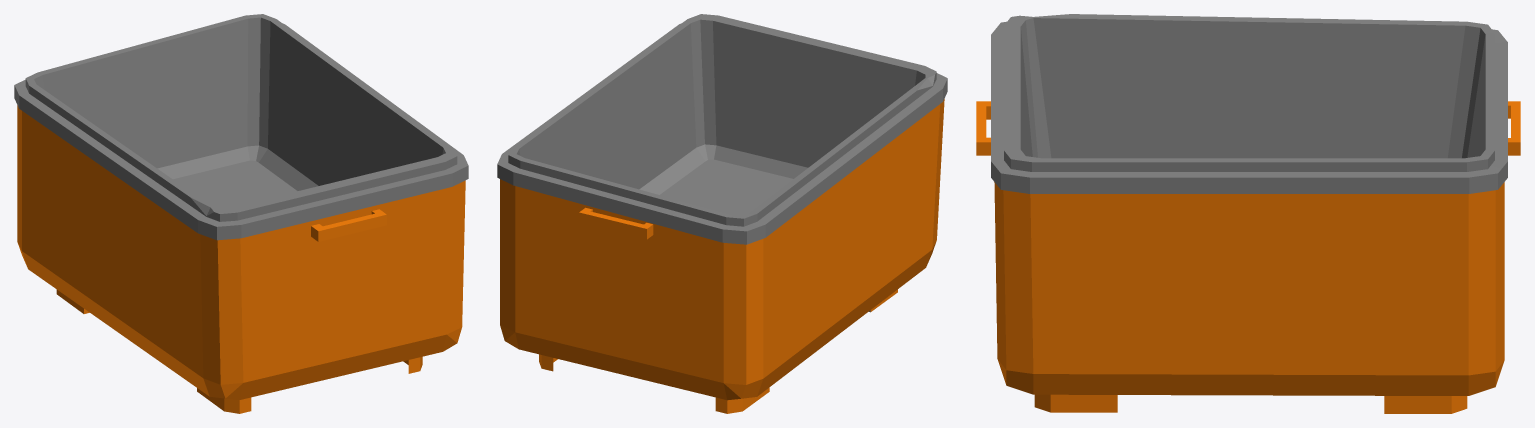
Rendered from prop_2.FBX.
The picture shows the model from 3 angles, left to right: view 1: azimuth 30°, elevation 25°; view 2: azimuth 150°, elevation 25°; view 3: azimuth 270°, elevation 25°; orthographic projection. The views are drawn at different scales.
Visible parts, largest first — view 1: prop_2; view 2: prop_2; view 3: prop_2.
Part boxes in pixels (x1,y1,x2,y2): prop_2: [14, 14, 468, 413]; prop_2: [497, 14, 947, 413]; prop_2: [976, 14, 1520, 413].
Bounding box in the file's own units: 25.53 × 19.76 × 36.86.
